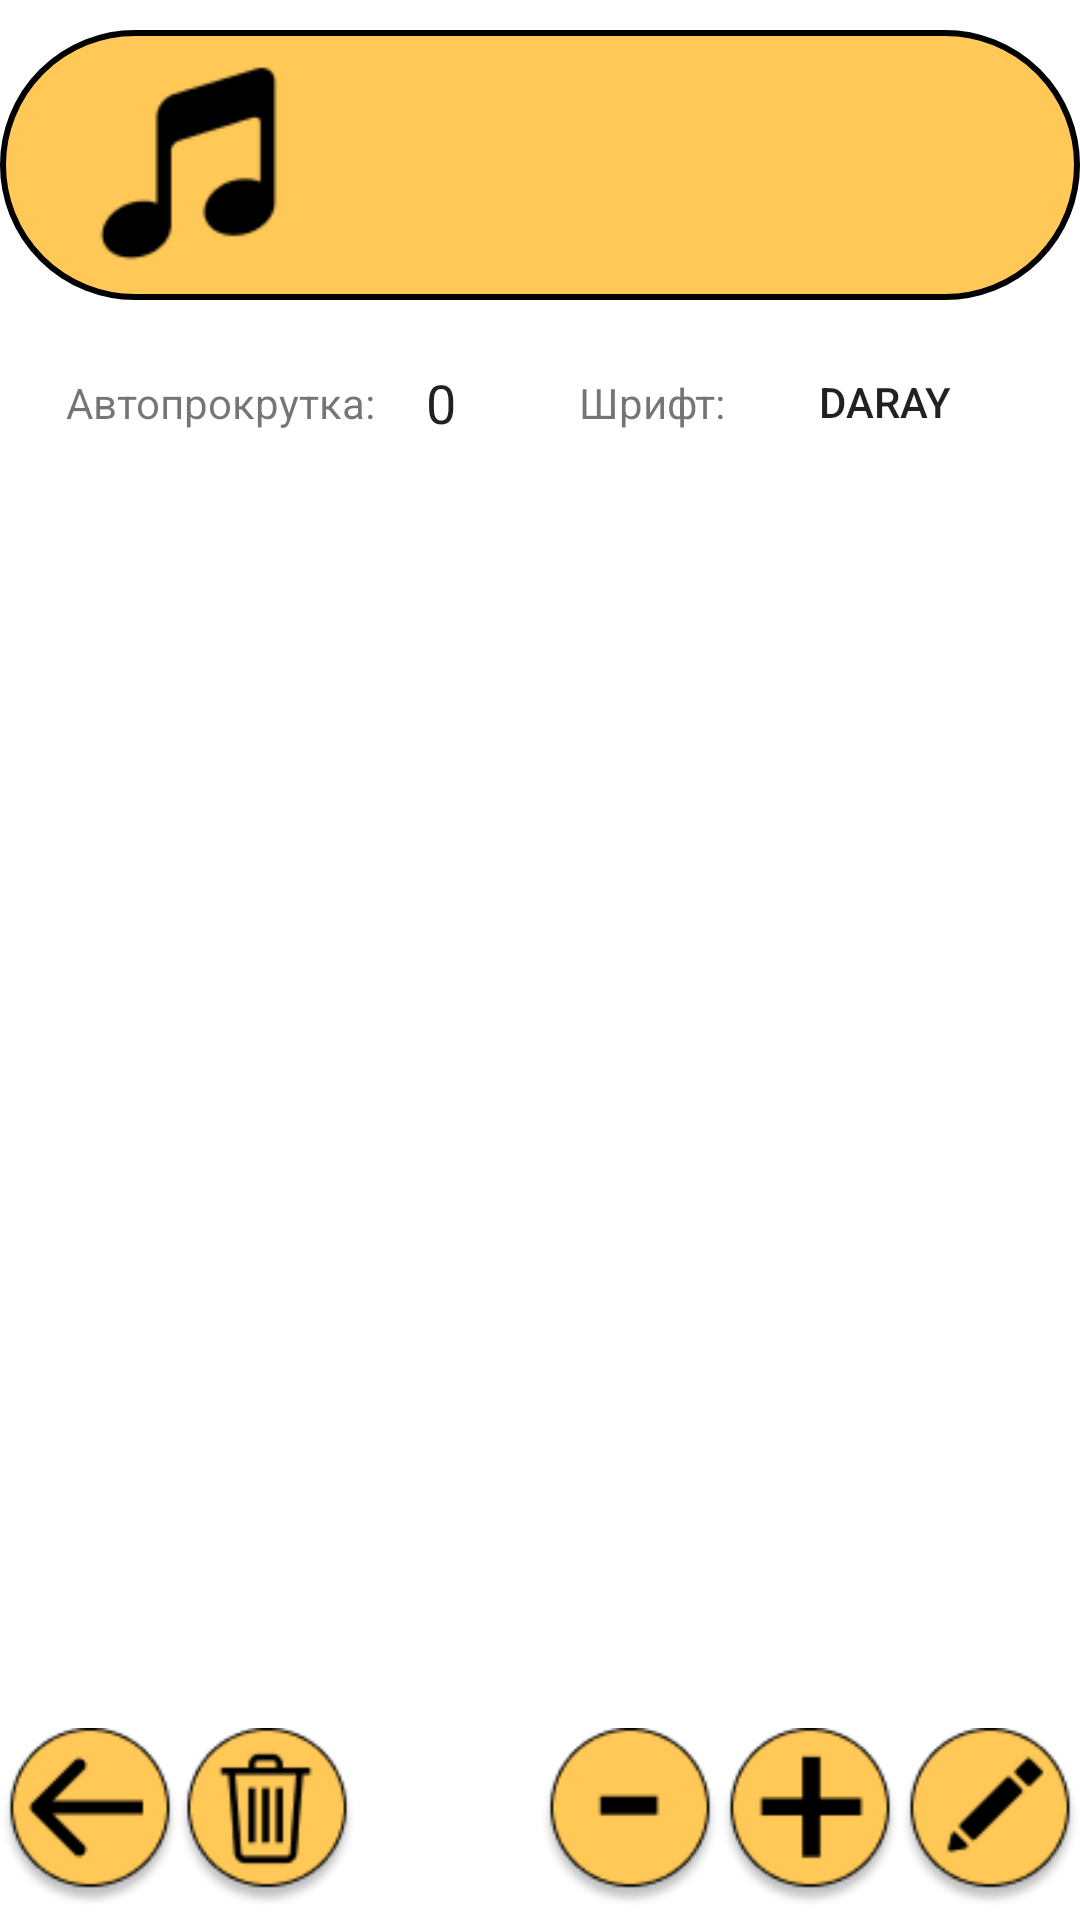

Named icons in this screenshot (1080w x 1920h) and their centers, (x=x, y=y):
back: (x=90, y=1813)
delete: (x=267, y=1813)
edit: (x=990, y=1813)
minus: (x=630, y=1813)
nota: (x=188, y=163)
plus: (x=810, y=1813)
